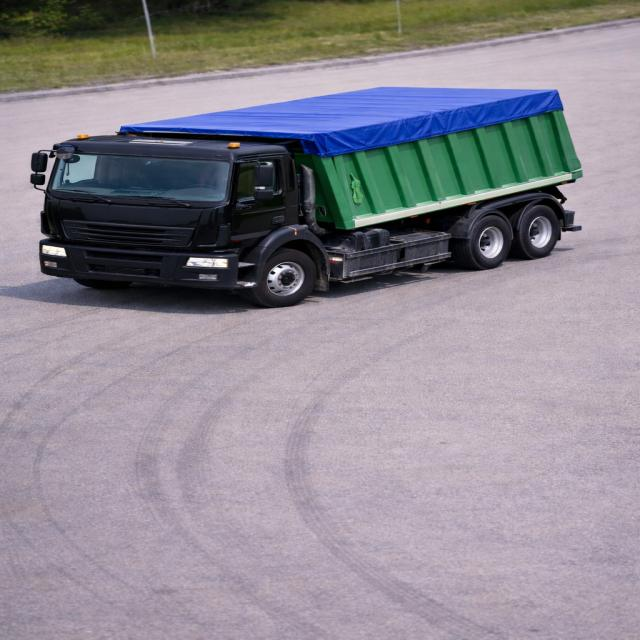Box: (125, 85, 558, 139)
Truck: (27, 82, 586, 306)
